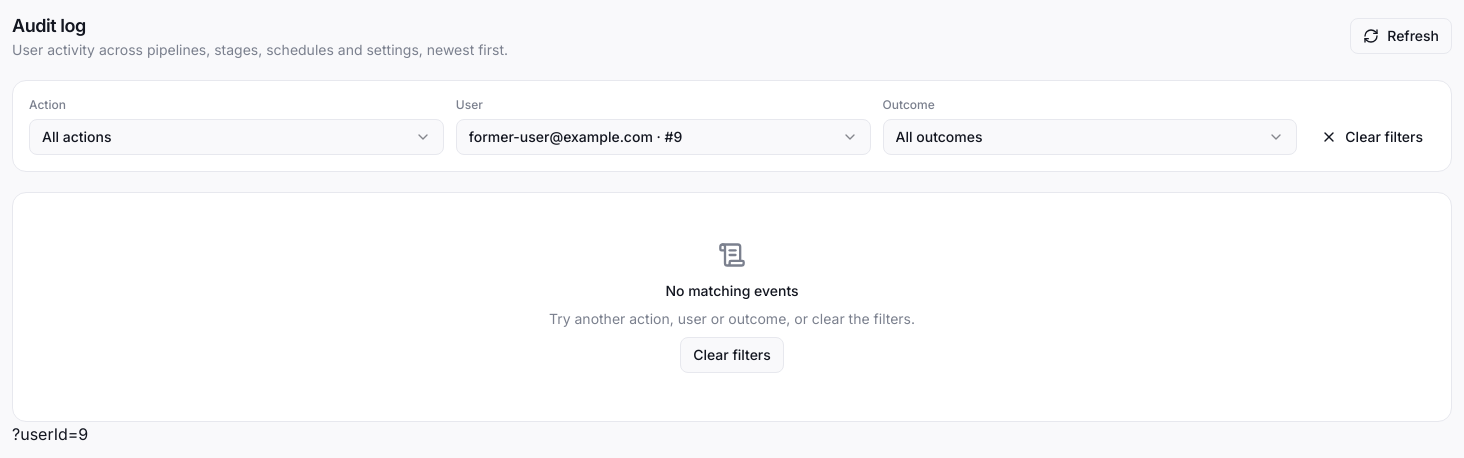
Test: Audit › distinguishes no matches from an empty audit history
The width and height of the screenshot is (1464, 458).
Check: the text "No matching events" is shown, box [665,282,799,299]
Check: the text "Nothing recorded yet" is not shown
Click the 1st button "Clear filters" at [1372, 137], box [1309,119,1435,155]
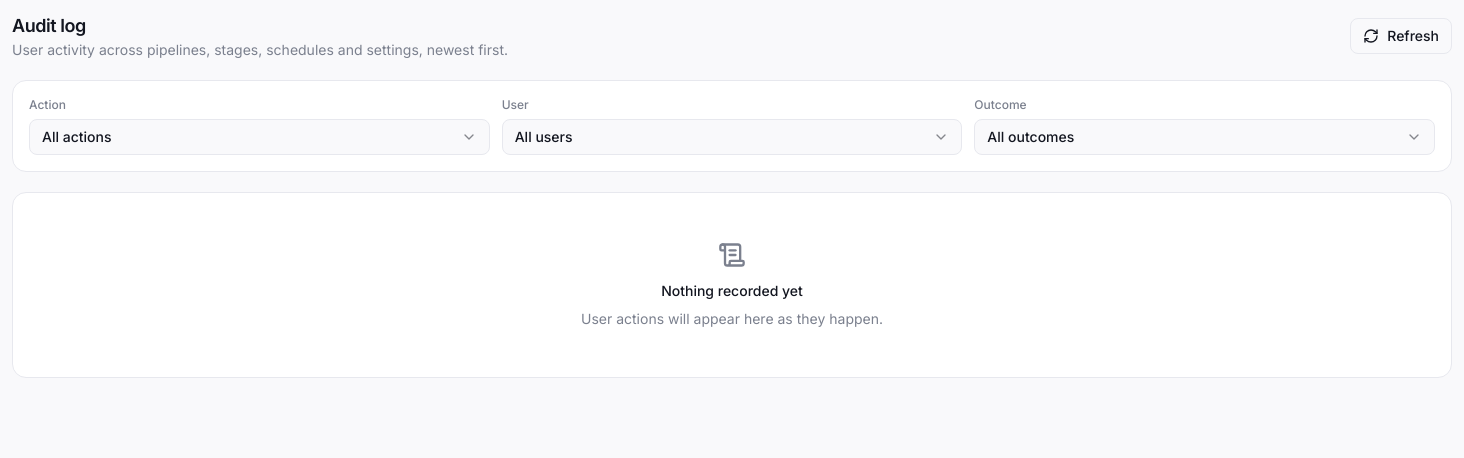
Check: the text "Nothing recorded yet" is shown, box [661,282,803,299]
